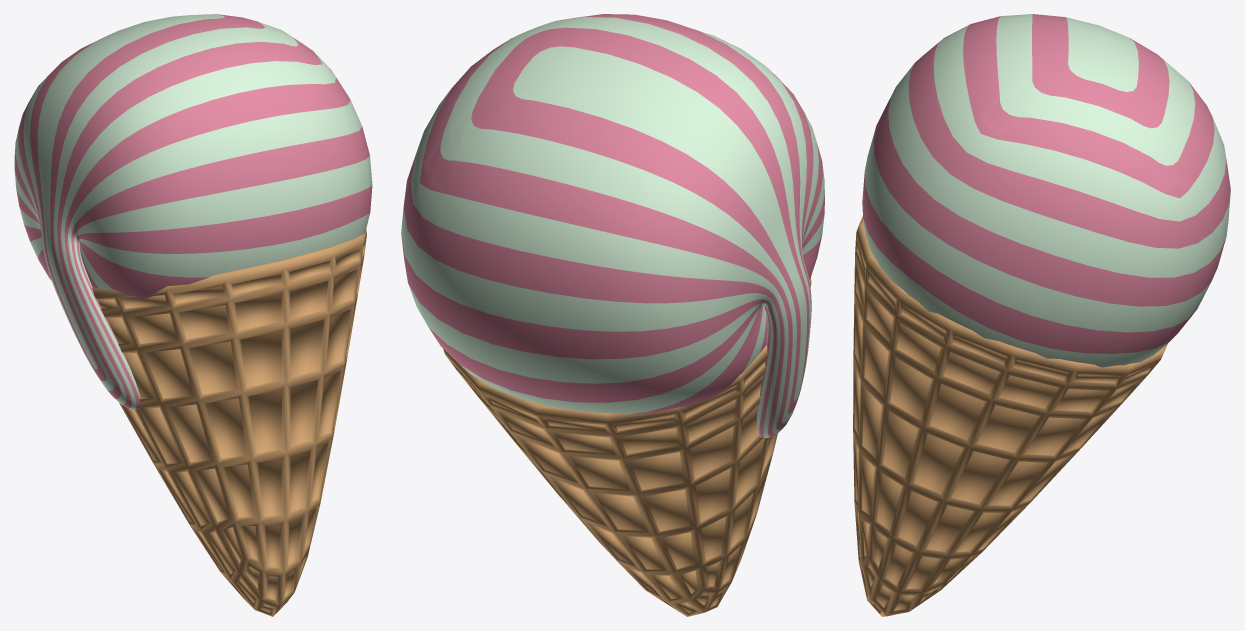
File: Assets_Comida_Helado.fbx
The picture shows the model from 3 angles, left to right: view 1: azimuth 30°, elevation 25°; view 2: azimuth 150°, elevation 25°; view 3: azimuth 270°, elevation 25°; orthographic projection. The views are drawn at different scales.
Visible parts, largest first — view 1: Helado; view 2: Helado; view 3: Helado.
Part boxes in pixels (<box>): Helado: <box>14,14,372,616</box>; Helado: <box>401,14,824,616</box>; Helado: <box>853,14,1230,616</box>.
Size of the model in its own units: 61.42 by 104 by 62.03.
1 material, 1 textured.
